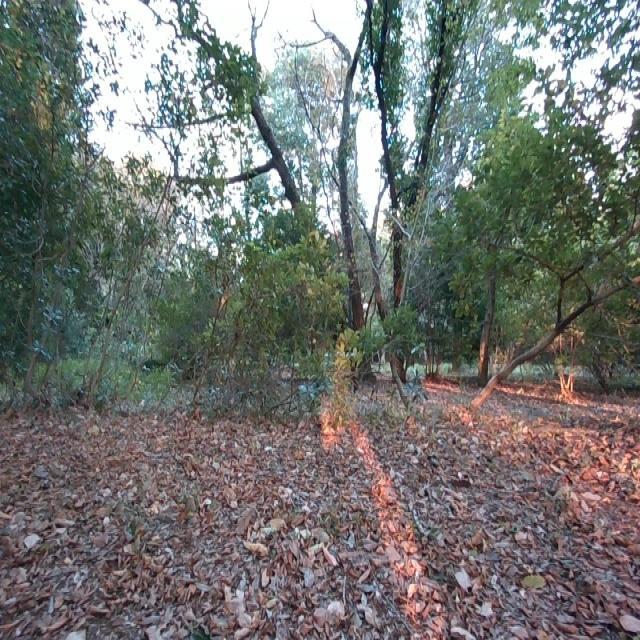bush: (0, 0, 142, 411), (144, 205, 362, 424)
tree: (225, 0, 371, 379), (476, 247, 640, 398), (373, 0, 418, 395), (478, 208, 508, 386)
